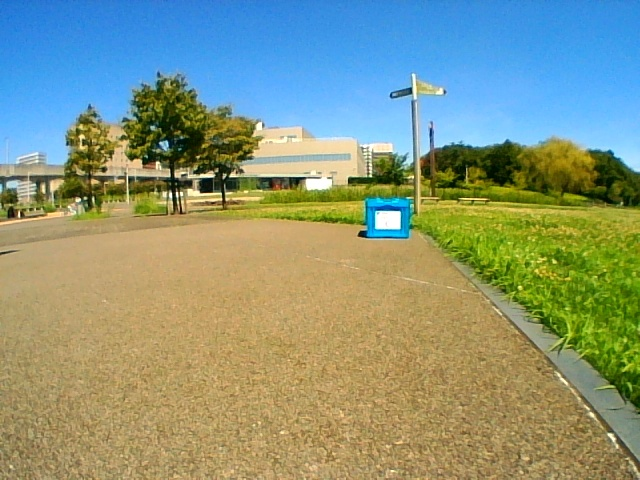blue_box: (366, 197, 409, 238)
tag: (376, 211, 399, 228)
